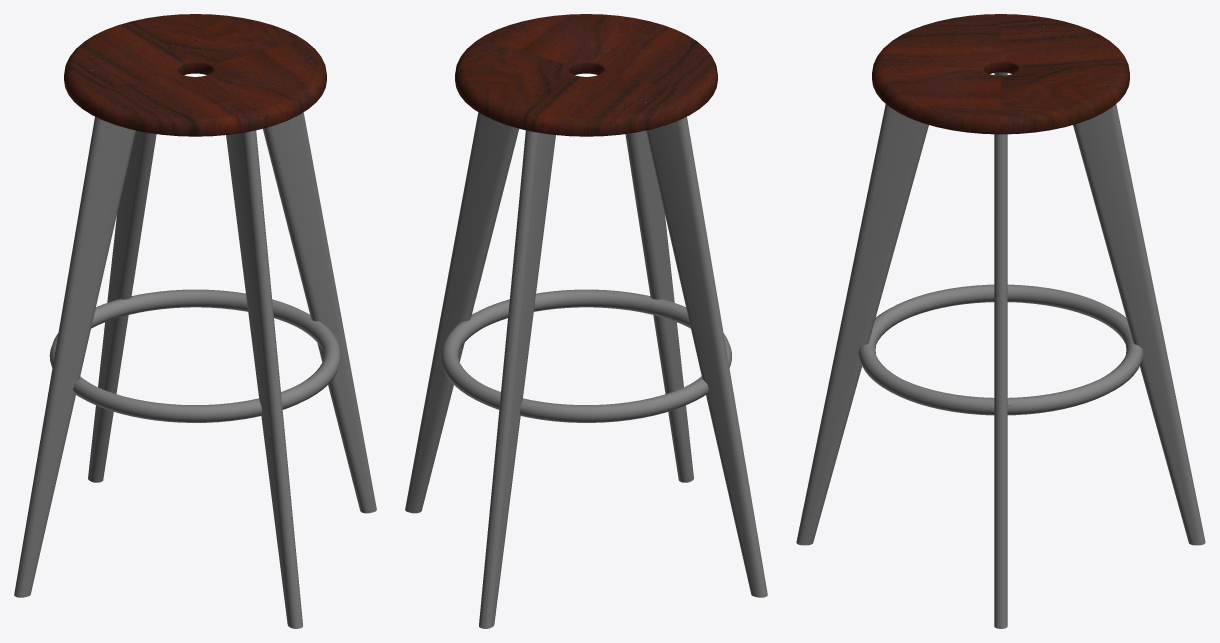
Rendered from banco2.obj.
The picture shows the model from 3 angles, left to right: view 1: azimuth 30°, elevation 25°; view 2: azimuth 150°, elevation 25°; view 3: azimuth 270°, elevation 25°; orthographic projection.
Visible parts, largest first — view 1: dd3b9539_d0ec_4304_aeab_6f181343c94d_001, fe312a65_fc0a_4ca3_8856_9247edd43e3d_001, d354c9_7d0f_4476_89e0_baa9c77de2ba_001, ca24802_a1b1_4664_a5e2_0e4d5f4aa9a1_001, d1bdd744_9df8_438d_bd97_c606c59fe98a_001, f8f1874b_9fbd_4f86_a1bd_96c9f4730671_001; view 2: dd3b9539_d0ec_4304_aeab_6f181343c94d_001, fe312a65_fc0a_4ca3_8856_9247edd43e3d_001, f8f1874b_9fbd_4f86_a1bd_96c9f4730671_001, ca24802_a1b1_4664_a5e2_0e4d5f4aa9a1_001, d1bdd744_9df8_438d_bd97_c606c59fe98a_001, d354c9_7d0f_4476_89e0_baa9c77de2ba_001; view 3: dd3b9539_d0ec_4304_aeab_6f181343c94d_001, d354c9_7d0f_4476_89e0_baa9c77de2ba_001, f8f1874b_9fbd_4f86_a1bd_96c9f4730671_001, d1bdd744_9df8_438d_bd97_c606c59fe98a_001, ca24802_a1b1_4664_a5e2_0e4d5f4aa9a1_001.
Part boxes in pixels (x1,y1,x2,y2): dd3b9539_d0ec_4304_aeab_6f181343c94d_001: (64,14,326,136); fe312a65_fc0a_4ca3_8856_9247edd43e3d_001: (14,116,135,597); d354c9_7d0f_4476_89e0_baa9c77de2ba_001: (226,130,302,628); ca24802_a1b1_4664_a5e2_0e4d5f4aa9a1_001: (263,112,376,513); d1bdd744_9df8_438d_bd97_c606c59fe98a_001: (49,289,341,422); f8f1874b_9fbd_4f86_a1bd_96c9f4730671_001: (88,130,156,482); dd3b9539_d0ec_4304_aeab_6f181343c94d_001: (455,14,717,136); fe312a65_fc0a_4ca3_8856_9247edd43e3d_001: (646,116,767,597); f8f1874b_9fbd_4f86_a1bd_96c9f4730671_001: (479,130,555,628); ca24802_a1b1_4664_a5e2_0e4d5f4aa9a1_001: (405,112,518,513); d1bdd744_9df8_438d_bd97_c606c59fe98a_001: (440,289,731,422); d354c9_7d0f_4476_89e0_baa9c77de2ba_001: (625,130,693,482); dd3b9539_d0ec_4304_aeab_6f181343c94d_001: (872,14,1129,134); d354c9_7d0f_4476_89e0_baa9c77de2ba_001: (796,104,928,545); f8f1874b_9fbd_4f86_a1bd_96c9f4730671_001: (1073,104,1205,545); d1bdd744_9df8_438d_bd97_c606c59fe98a_001: (858,284,1143,415); ca24802_a1b1_4664_a5e2_0e4d5f4aa9a1_001: (994,134,1007,628).
Size of the model in its own units: 0.5982 by 0.7699 by 0.5982.
Materials: 2 (1 with a texture image).
